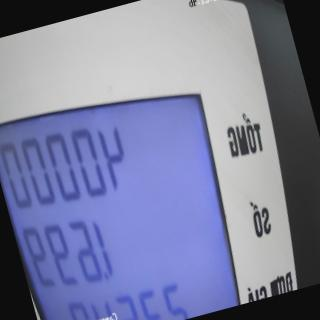screen: (0, 55, 262, 320)
